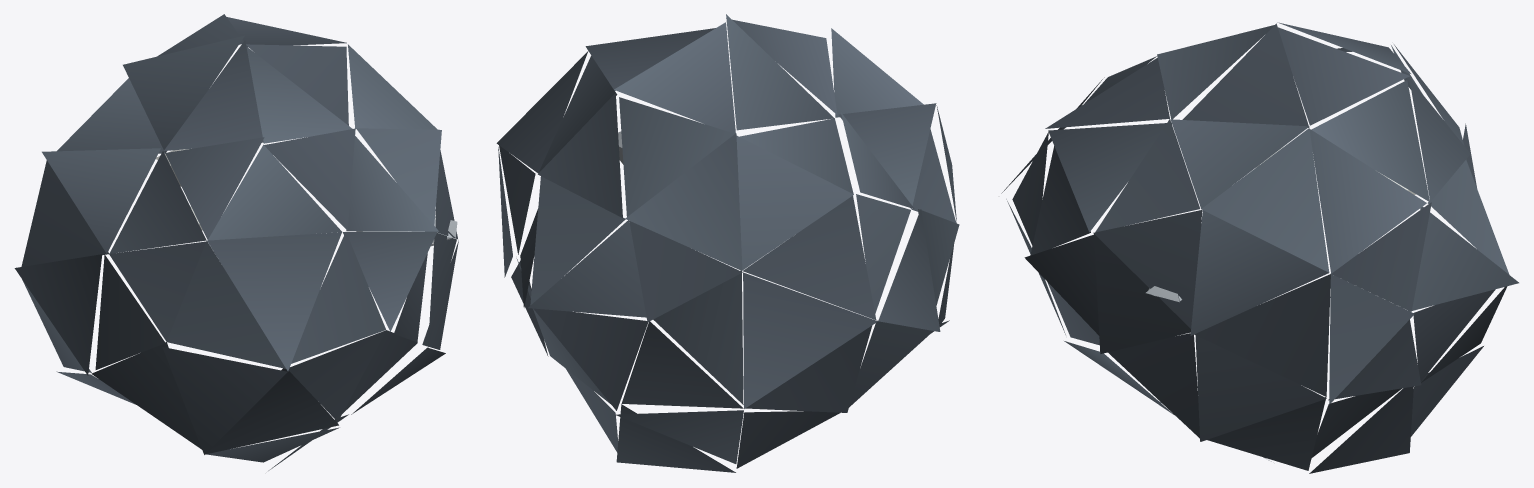
Rendered from standard-lod2.glb.
The picture shows the model from 3 angles, left to right: view 1: azimuth 30°, elevation 25°; view 2: azimuth 150°, elevation 25°; view 3: azimuth 270°, elevation 25°; orthographic projection. The views are drawn at different scales.
Visible parts, largest first — view 1: tin-host-rock; view 2: tin-host-rock; view 3: tin-host-rock.
Part boxes in pixels (box(x1,y1,x2,y2)): tin-host-rock: box(14, 14, 458, 470); tin-host-rock: box(496, 14, 959, 472); tin-host-rock: box(1001, 22, 1518, 473).
Bounding box in the file's own units: 2.31 × 2.47 × 2.59.
